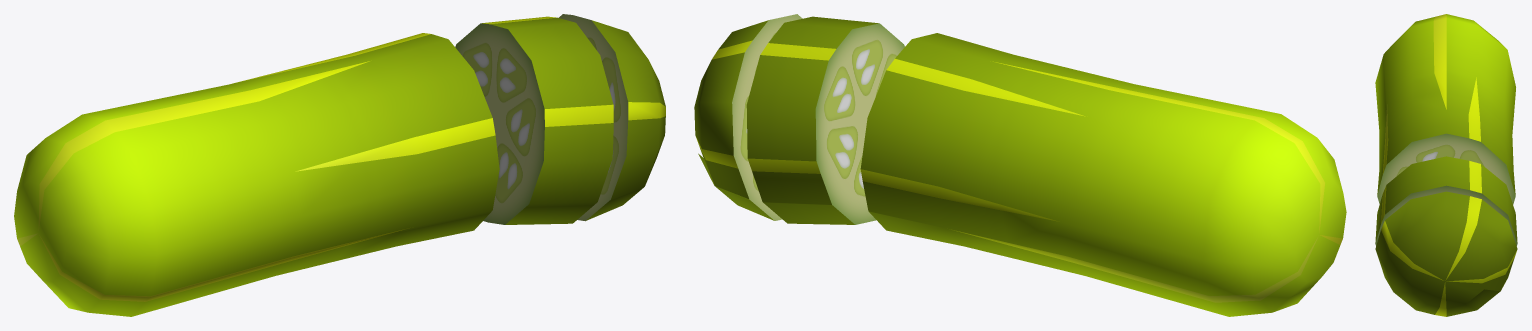
Rendered from Cucumber_01_S2.fbx.
3 renders of one model, left to right at view 1: azimuth 30°, elevation 25°; view 2: azimuth 150°, elevation 25°; view 3: azimuth 270°, elevation 25°, orthographic. The views are drawn at different scales.
Visible parts, largest first — view 1: Cucumber_01_S2; view 2: Cucumber_01_S2; view 3: Cucumber_01_S2.
Boxes of the visible parts, <box> form: Cucumber_01_S2: <box>14,14,665,316</box>; Cucumber_01_S2: <box>694,14,1346,316</box>; Cucumber_01_S2: <box>1375,14,1517,316</box>.
Bounding box in the file's own units: 133 × 42.58 × 39.51.
